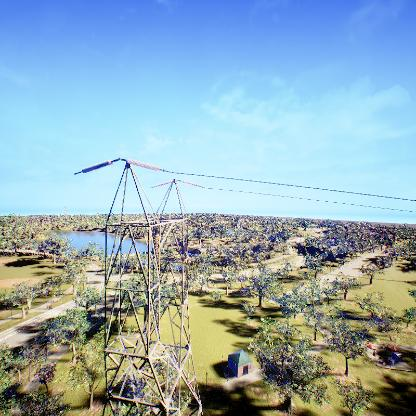tower: (72, 156, 207, 416)
